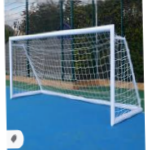goals: (8, 25, 144, 128)
